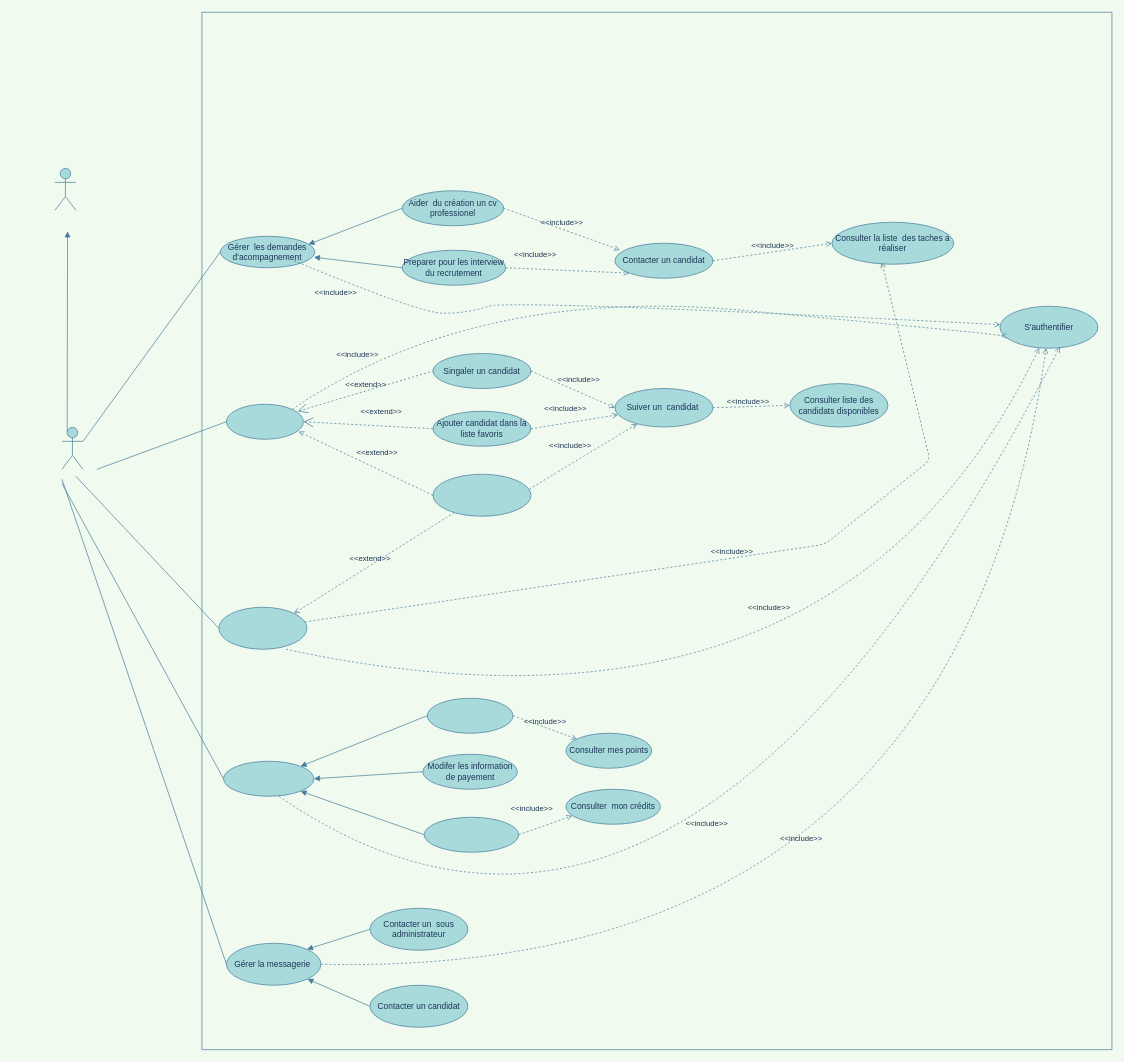
The diagram is 1124 pixels wide and 1062 high, and some of its shapes have lost their labels. Here are the shapes that lost their labels. From the top down, the centre of each, then its label:
point (65, 189): Utilsateur
point (264, 421): Gerer liste des candidats
point (72, 448): Spicialiste Resources Humaines
point (481, 495): Inserer candidat dans liste propose d'un recteur
point (262, 628): Gérer liste des demandes des recruteurs
point (470, 715): Convertir les points
point (268, 778): Gerer les payemet
point (471, 834): Demander versement
